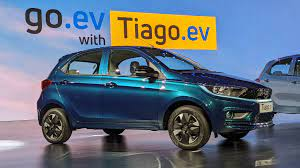Tiago: (32, 43, 277, 152)
